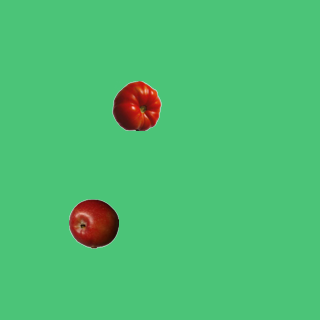Apple Braeburn: (68, 198, 118, 248)
Tomato 3: (111, 80, 161, 130)
